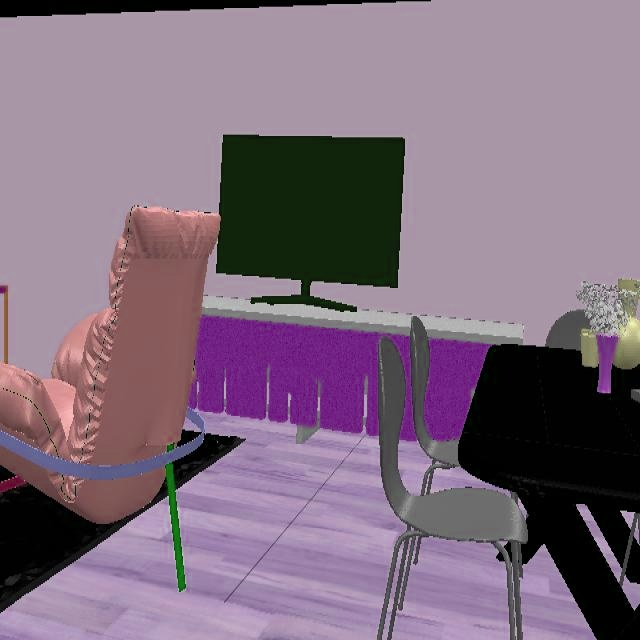cabinet: (191, 295, 415, 439), (420, 318, 523, 440)
chair: (378, 317, 528, 640)
monitor: (216, 135, 405, 311)
sofa: (0, 207, 220, 589)
table: (459, 345, 640, 638)
